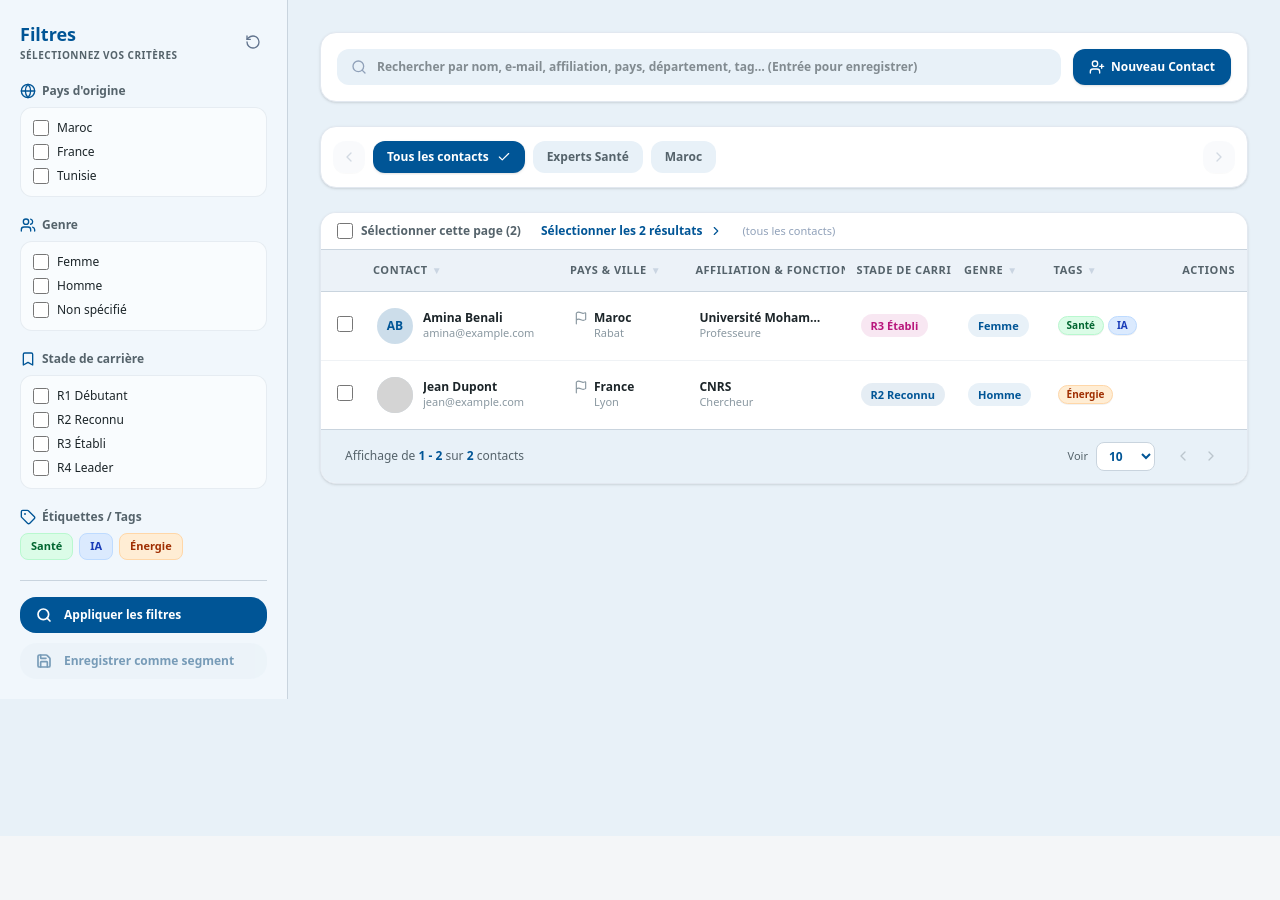
ContactsView › Search › clears the search when the X button is clicked
Expected: the text "Amina Benali" is shown, [423,309,503,326]
Step 1. Replace the text in the field with "test" → (699, 67), box [337,49,1061,85]
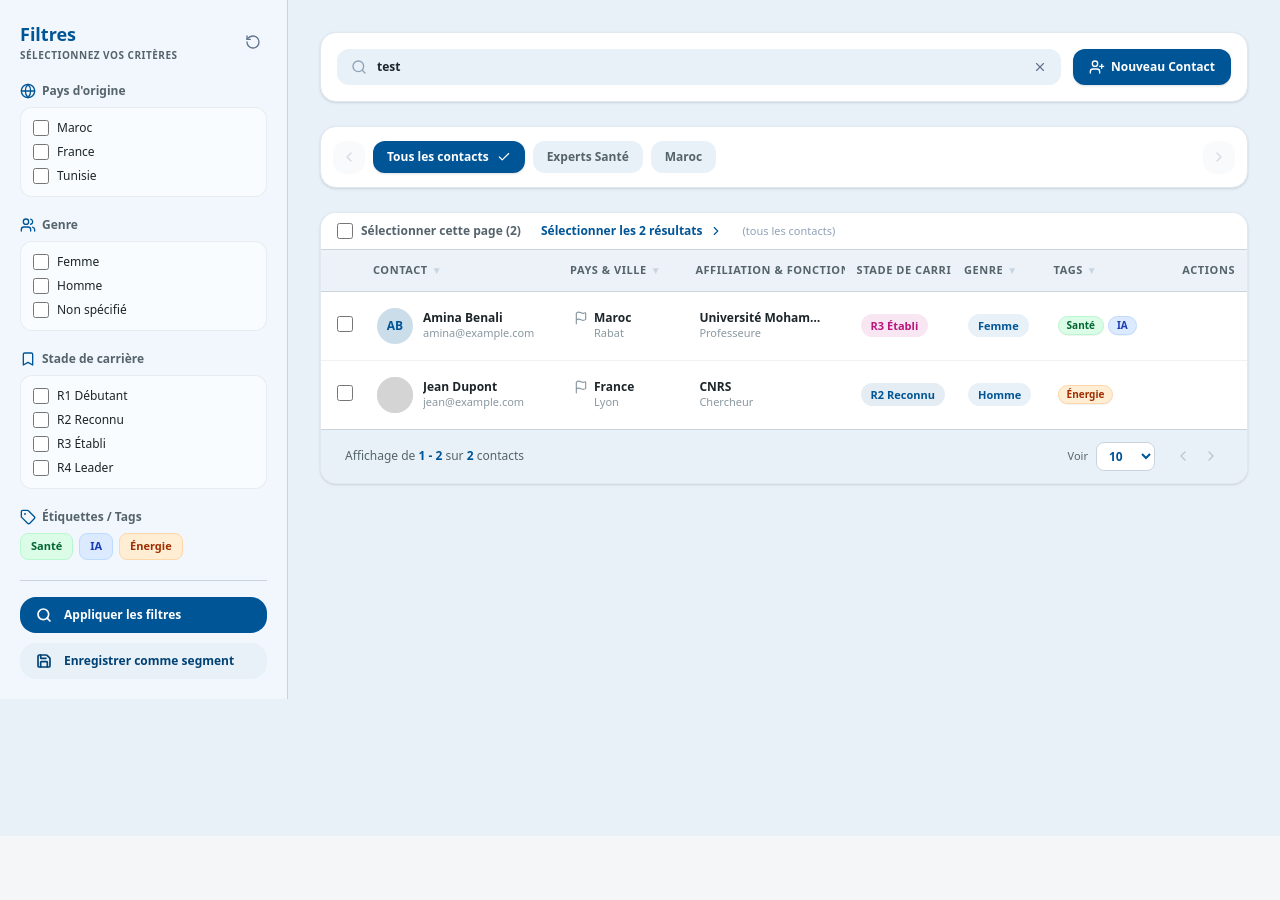
Step 2. Click the button named "Effacer la recherche" → (1040, 67), box [1029,56,1051,78]
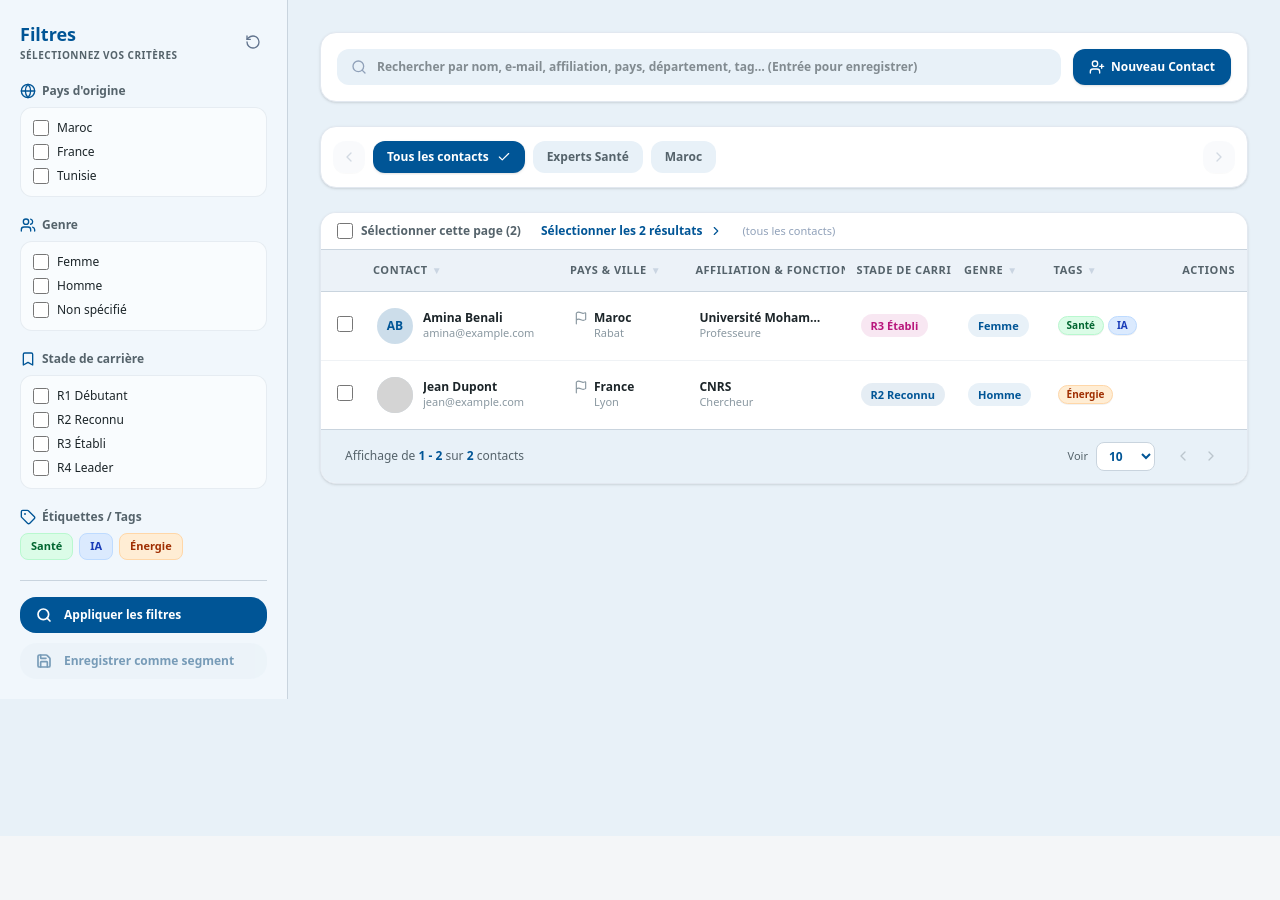
Now the field is empty, box [337,49,1061,85]
